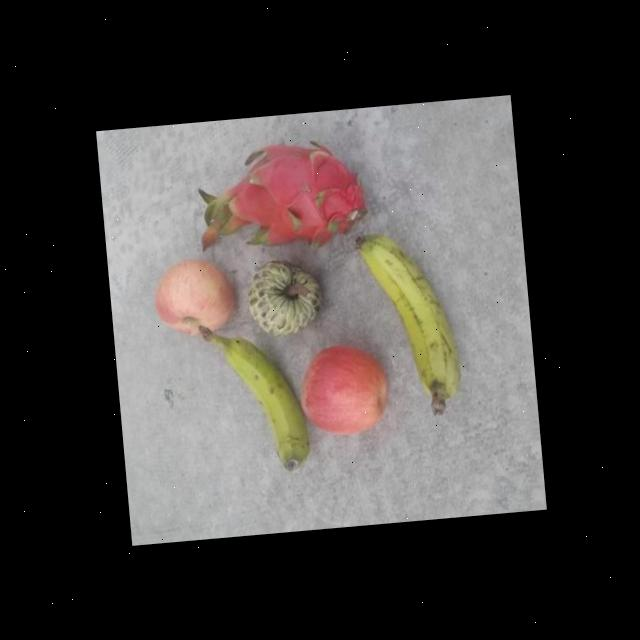Sakya fruit: (243, 248, 320, 339)
apple: (294, 340, 392, 438), (149, 254, 237, 340)
banana: (352, 226, 464, 424), (198, 316, 309, 478)
pitaya: (192, 134, 369, 259)
